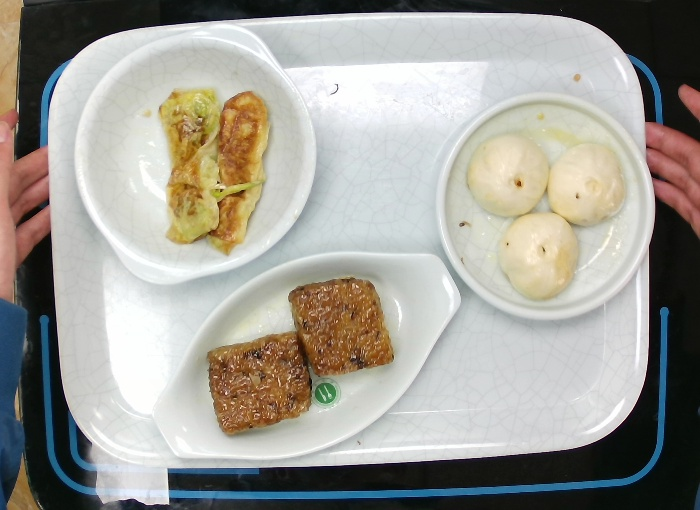JYsf-Shuang_Er_Wan: (70, 19, 322, 289)
JYsf-Xiao_Yuan_Pan: (427, 87, 658, 325)
JYsf-Yu_Pan: (145, 245, 464, 467)
